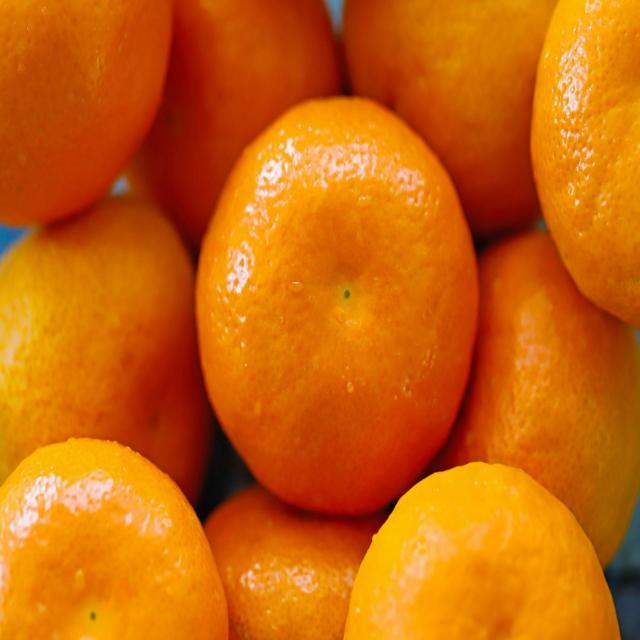10_tangerine: (194, 91, 483, 512), (332, 453, 619, 640), (0, 426, 233, 640), (0, 0, 179, 229), (530, 0, 640, 337)
